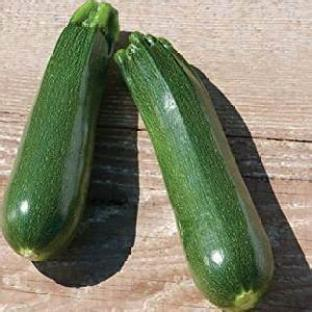Zucchini: (115, 33, 273, 310)
